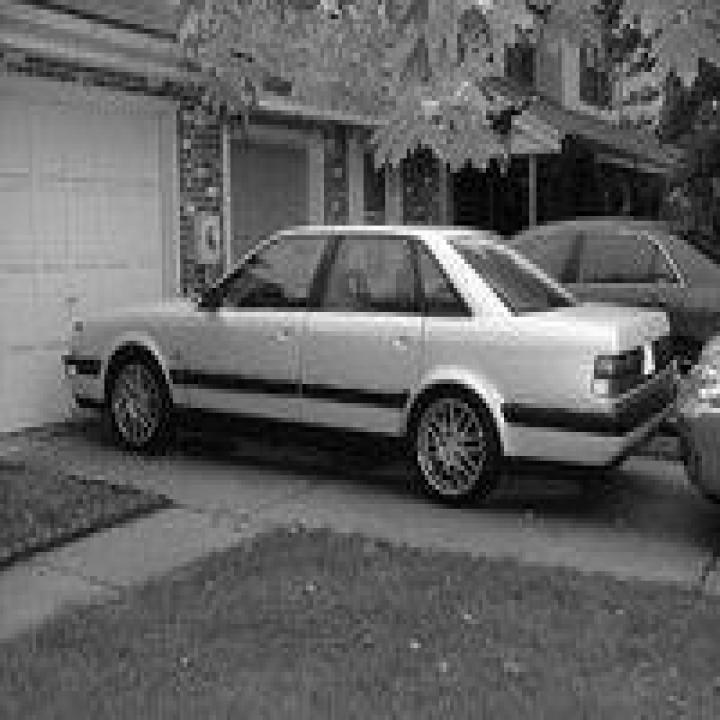car: (57, 221, 680, 504), (500, 211, 716, 365), (675, 336, 720, 547)
